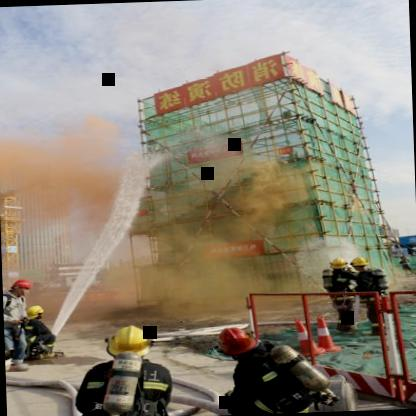helmet: (107, 322, 153, 366), (210, 324, 262, 358), (6, 276, 36, 300), (24, 300, 53, 324), (349, 252, 372, 274), (326, 256, 351, 274)
